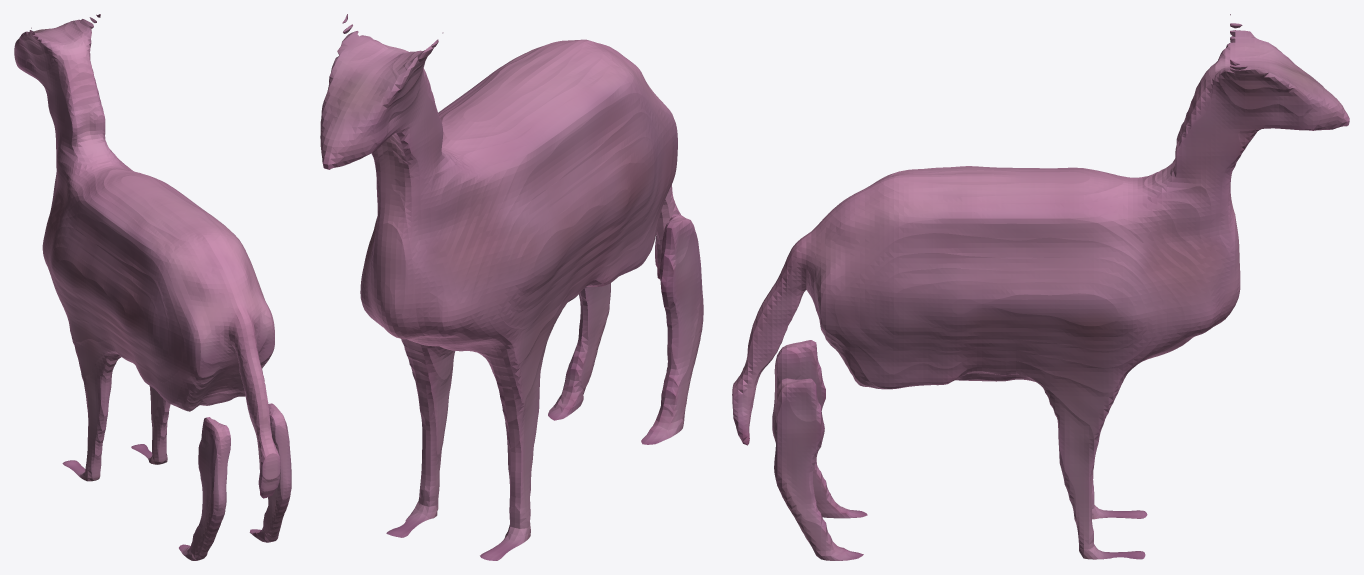
The picture shows the model from 3 angles, left to right: view 1: azimuth 30°, elevation 25°; view 2: azimuth 150°, elevation 25°; view 3: azimuth 270°, elevation 25°; orthographic projection. The views are drawn at different scales.
Parts seen in each view (by area): view 1: tmp8131my23.ply; view 2: tmp8131my23.ply; view 3: tmp8131my23.ply.
Boxes of the visible parts, bbox=[...] form: tmp8131my23.ply: bbox=[14, 14, 291, 560]; tmp8131my23.ply: bbox=[320, 14, 703, 560]; tmp8131my23.ply: bbox=[732, 14, 1349, 560].
Size of the model in its own units: 0.5246 by 1.76 by 1.97.
